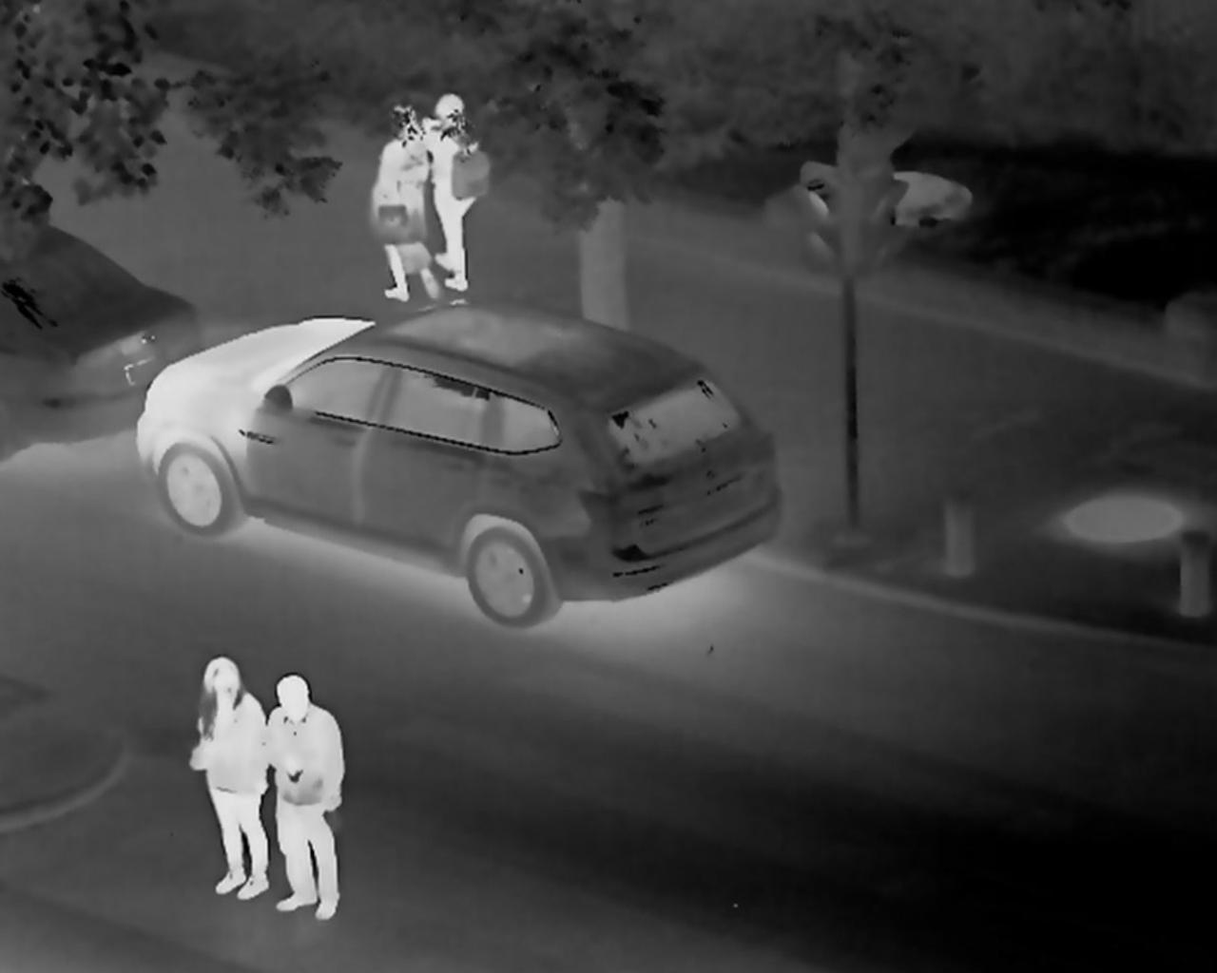person: (259, 675, 347, 924), (183, 648, 269, 900), (365, 101, 442, 307), (415, 90, 490, 295)
